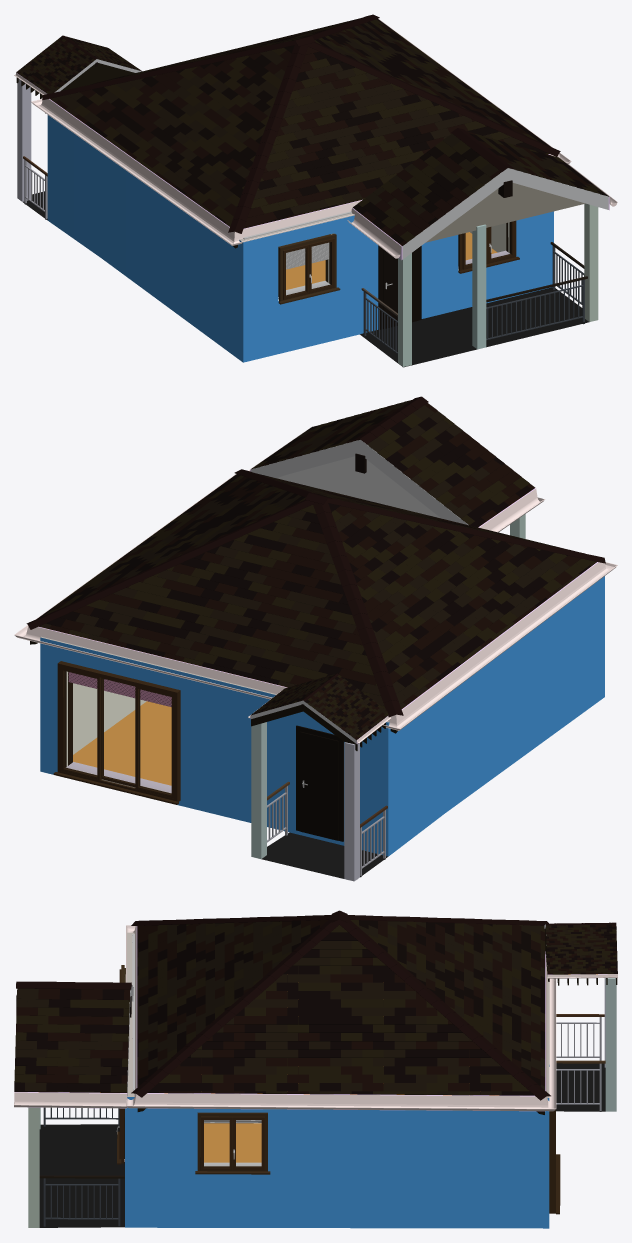
Rendered from House2.obj.
3 views of the same model, one above another, from view 1: azimuth 30°, elevation 25°; view 2: azimuth 150°, elevation 25°; view 3: azimuth 270°, elevation 25° (orthographic). The views are drawn at different scales.
Parts seen in each view (by area): view 1: Roof.001_Roof.003, Wall, Roof, Plane_Plane.001, Roof.002_Roof.004, Wall.010, Fence.004, Window.002, Pole.003_Cube.003, Pole.004_Cube.004, Pole.001_Cube.001, Pole.002_Cube.002 (+9 smaller); view 2: Roof.001_Roof.003, Wall, Roof, Window.001, Roof.002_Roof.004, Floor1_Plane, Panel, Wall.011, Plane.001_Plane.002, Pole.001_Cube.001, Pole_Cube, Door (+5 smaller); view 3: Roof.001_Roof.003, Wall, Roof, Plane_Plane.001, Roof.002_Roof.004, Plane.001_Plane.002, Floor1_Plane, Pole_Cube, Window.003, Fence.003, Pole.004_Cube.004, Window.001 (+5 smaller).
Part boxes in pixels (x1,y1,x2,y2): Roof.001_Roof.003: (31,14,571,248); Wall: (47,115,553,362); Roof: (347,128,617,260); Plane_Plane.001: (360,287,588,367); Roof.002_Roof.004: (14,35,142,98); Wall.010: (426,183,585,242); Fence.004: (486,276,587,339); Window.002: (278,234,340,304); Pole.003_Cube.003: (472,224,486,349); Pole.004_Cube.004: (584,203,598,321); Pole.001_Cube.001: (17,79,31,201); Pole.002_Cube.002: (398,253,411,366); Roof.001_Roof.003: (14,469,617,733); Wall: (40,576,604,856); Roof: (248,396,545,532); Window.001: (53,661,180,804); Roof.002_Roof.004: (248,673,391,750); Floor1_Plane: (73,701,171,785); Panel: (300,732,338,840); Wall.011: (276,456,440,518); Plane.001_Plane.002: (261,832,387,878); Pole.001_Cube.001: (344,742,359,881); Pole_Cube: (251,722,266,858); Door: (296,725,343,841); Roof.001_Roof.003: (126,910,556,1114); Wall: (125,932,549,1228); Roof: (14,981,133,1108); Plane_Plane.001: (39,1124,124,1227); Roof.002_Roof.004: (544,922,617,985); Plane.001_Plane.002: (556,1063,605,1111); Floor1_Plane: (204,1123,261,1162); Pole_Cube: (605,978,616,1111); Window.003: (195,1112,270,1174); Fence.003: (39,1175,124,1226); Pole.004_Cube.004: (28,1107,39,1227); Window.001: (549,1109,560,1214).
Size of the model in its own units: 8.13 by 4.86 by 11.31.
